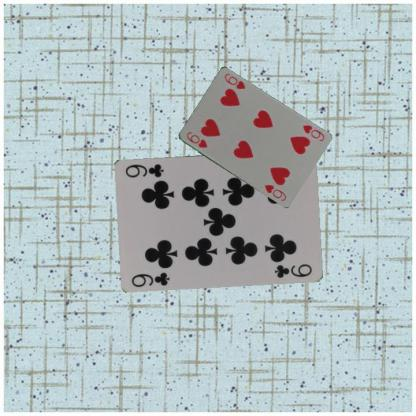6h: (300, 122, 325, 142), (184, 129, 208, 149)
9c: (129, 269, 171, 288)
